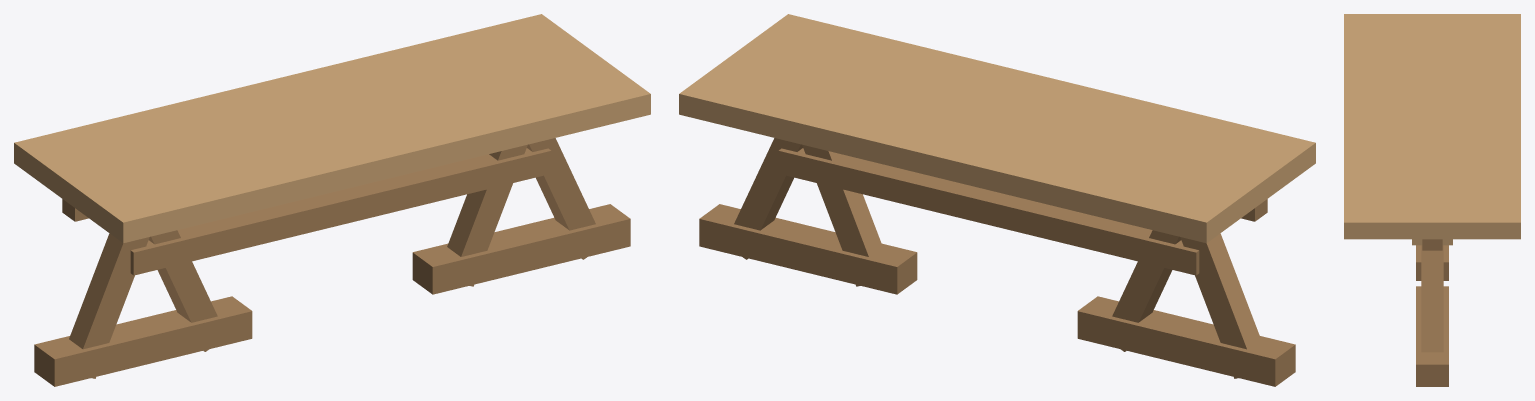
File: trestle-table.glb
3 views of the same model, side by side, from view 1: azimuth 30°, elevation 25°; view 2: azimuth 150°, elevation 25°; view 3: azimuth 270°, elevation 25° (orthographic). The views are drawn at different scales.
Visible parts, largest first — view 1: trestle-table; view 2: trestle-table; view 3: trestle-table.
Part boxes in pixels (<box>): trestle-table: <box>14,14,650,386</box>; trestle-table: <box>679,14,1315,386</box>; trestle-table: <box>1344,14,1520,386</box>.
Bounding box in the file's own units: 2.62 × 0.8523 × 0.86.
